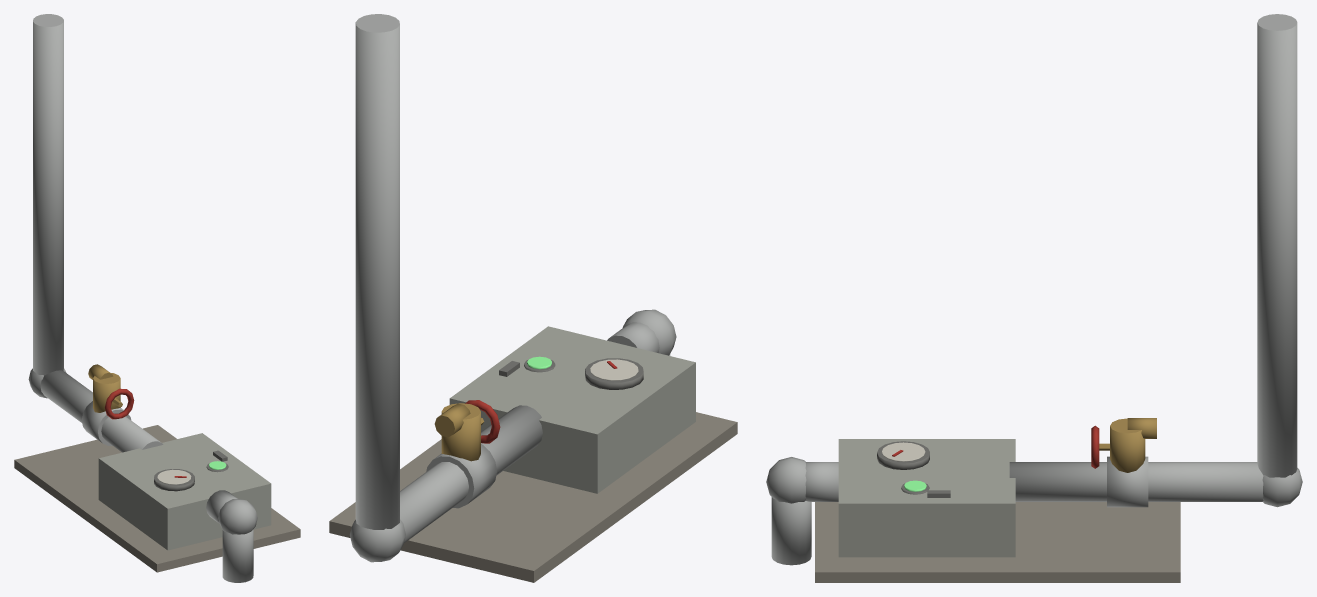
Rendered from house_inlet.obj.
3 renders of one model, left to right at view 1: azimuth 30°, elevation 25°; view 2: azimuth 150°, elevation 25°; view 3: azimuth 270°, elevation 25°, orthographic. The views are drawn at different scales.
Parts seen in each view (by area): view 1: inlet_box, feed, backboard, riser, to_wall, to_wall_elbow, bib_body, bib_tee, to_wall_nipple, bib_wheel, gauge_case, gauge_face; view 2: feed, inlet_box, backboard, riser, feed_elbow, bib_tee, bib_body, to_wall_elbow, to_wall_nipple, gauge_case, gauge_face, bib_spout (+1 smaller); view 3: backboard, inlet_box, feed, riser, to_wall, bib_tee, to_wall_elbow, bib_body, to_wall_nipple, feed_elbow.
Part boxes in pixels (box(x1,y1,x2,y2)): inlet_box: box(98, 433, 271, 550); feed: box(33, 14, 63, 375); backboard: box(14, 425, 300, 572); riser: box(40, 370, 163, 452); to_wall: box(222, 529, 253, 582); to_wall_elbow: box(218, 499, 257, 534); bib_body: box(93, 373, 120, 412); bib_tee: box(81, 401, 131, 445); to_wall_nipple: box(206, 490, 237, 523); bib_wheel: box(105, 388, 134, 419); gauge_case: box(154, 469, 194, 491); gauge_face: box(157, 469, 191, 484); feed: box(355, 14, 399, 529); inlet_box: box(449, 326, 695, 493); backboard: box(329, 412, 737, 582); riser: box(400, 405, 542, 542); feed_elbow: box(350, 519, 405, 562); bib_tee: box(426, 444, 496, 508); bib_body: box(441, 403, 480, 461); to_wall_elbow: box(622, 309, 676, 355); to_wall_nipple: box(607, 322, 659, 352); gauge_case: box(585, 358, 643, 389); gauge_face: box(590, 359, 638, 380); bib_spout: box(434, 403, 470, 437); backboard: box(815, 502, 1180, 582); inlet_box: box(838, 439, 1015, 557); feed: box(1257, 14, 1297, 477); riser: box(1009, 462, 1263, 501); to_wall: box(771, 497, 811, 565); bib_tee: box(1107, 456, 1148, 507); to_wall_elbow: box(766, 457, 806, 503); bib_body: box(1110, 418, 1145, 472); to_wall_nipple: box(805, 462, 838, 501); feed_elbow: box(1262, 468, 1302, 507).
Size of the model in its own units: 0.36 by 1 by 0.91.
Materials: 10 (10 with a texture image).
